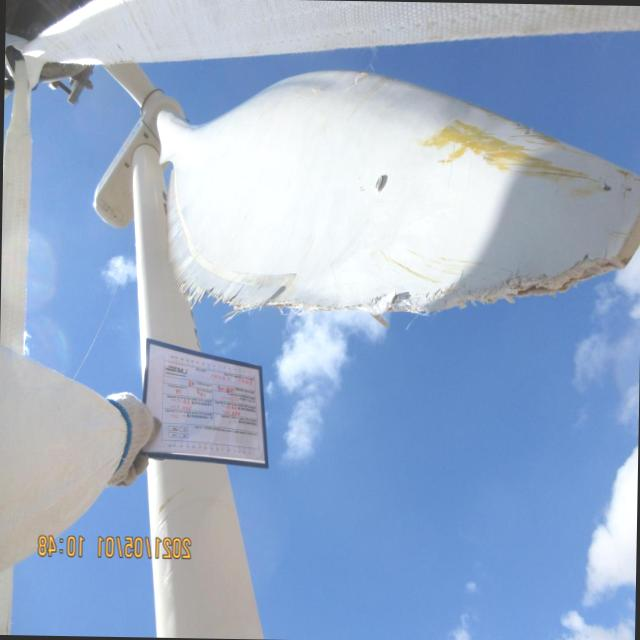crack: (236, 243, 618, 324)
